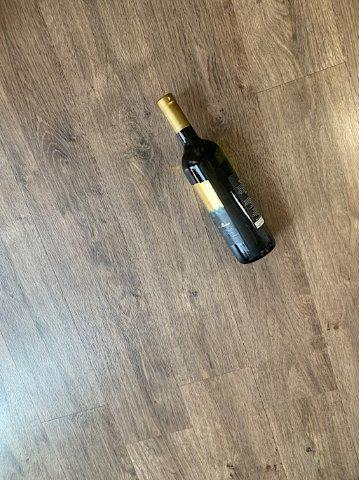botolkaca: (157, 93, 277, 265)
